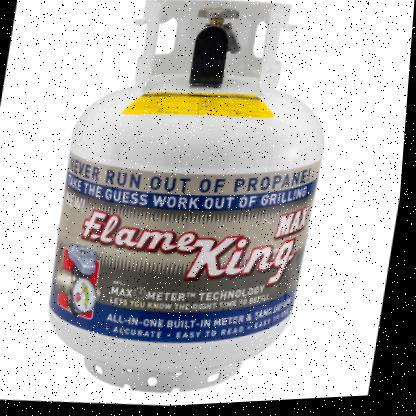gas-tank: (30, 0, 355, 413)
